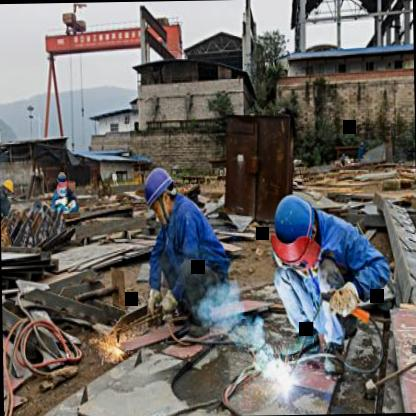helmet: (272, 188, 318, 261), (140, 162, 177, 224), (53, 168, 70, 192), (0, 176, 15, 197)
